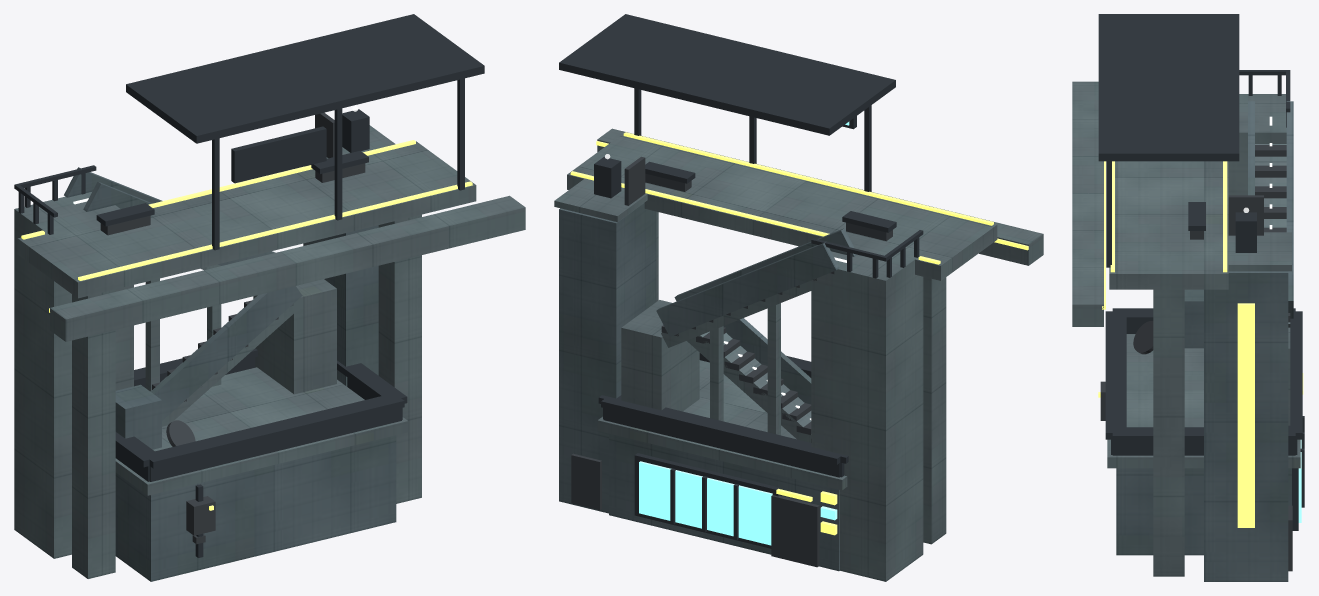
Rendered from synthwave-station.glb.
The picture shows the model from 3 angles, left to right: view 1: azimuth 30°, elevation 25°; view 2: azimuth 150°, elevation 25°; view 3: azimuth 270°, elevation 25°; orthographic projection. The views are drawn at different scales.
Visible parts, largest first — view 1: Station_Body2, Station_Frame, Station_Body, Station_PlatWarn, Station_Door, RK_StaVent; view 2: Station_Body2, Station_Body, Station_Frame, Station_Door, HallPane, Station_PlatWarn, RK_StaVent, Station_DimB; view 3: Station_Body2, Station_Body, Station_Frame, Station_DimB, Station_Door, Station_PlatWarn, RK_StaVent, RK_StaDish.
Part boxes in pixels (x1,y1,x2,y2): Station_Body2: [14, 125, 525, 578]; Station_Frame: [14, 14, 484, 557]; Station_Body: [64, 165, 396, 581]; Station_PlatWarn: [21, 140, 472, 280]; Station_Door: [100, 112, 365, 544]; RK_StaVent: [342, 109, 369, 152]; Station_Body2: [554, 128, 1043, 581]; Station_Body: [559, 203, 857, 571]; Station_Frame: [559, 14, 923, 548]; Station_Door: [571, 156, 892, 567]; HallPane: [639, 461, 772, 545]; Station_PlatWarn: [570, 132, 993, 264]; RK_StaVent: [594, 157, 621, 198]; Station_DimB: [596, 141, 1028, 535]; Station_Body2: [1072, 81, 1300, 576]; Station_Body: [1116, 101, 1293, 581]; Station_Frame: [1098, 14, 1304, 530]; Station_DimB: [1098, 161, 1254, 527]; Station_Door: [1100, 145, 1292, 571]; Station_PlatWarn: [1110, 161, 1227, 272]; RK_StaVent: [1235, 212, 1256, 252]; RK_StaDish: [1133, 321, 1153, 354].
Bounding box in the file's own units: 1.5 × 1.38 × 0.661.
13 materials, 2 textured.
